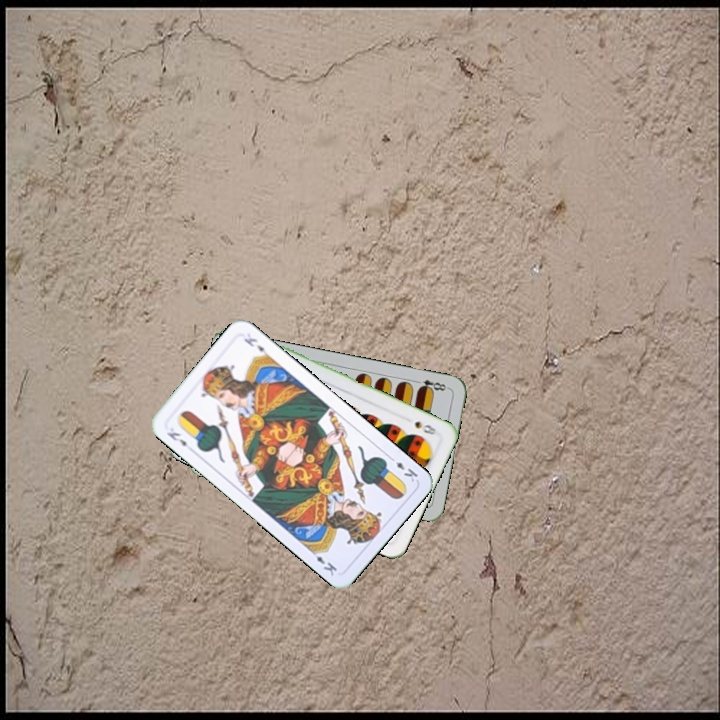E8: (411, 375, 451, 394)
EK: (385, 452, 421, 485), (163, 428, 189, 449)
S8: (411, 417, 439, 437)
